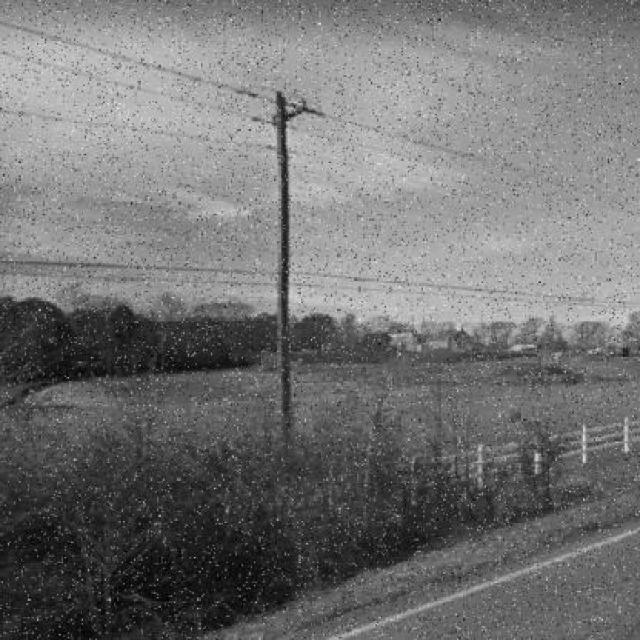pole: (273, 93, 293, 441)
wire: (1, 19, 563, 186), (1, 48, 439, 169), (0, 259, 640, 305), (1, 271, 640, 310), (0, 108, 273, 151)
